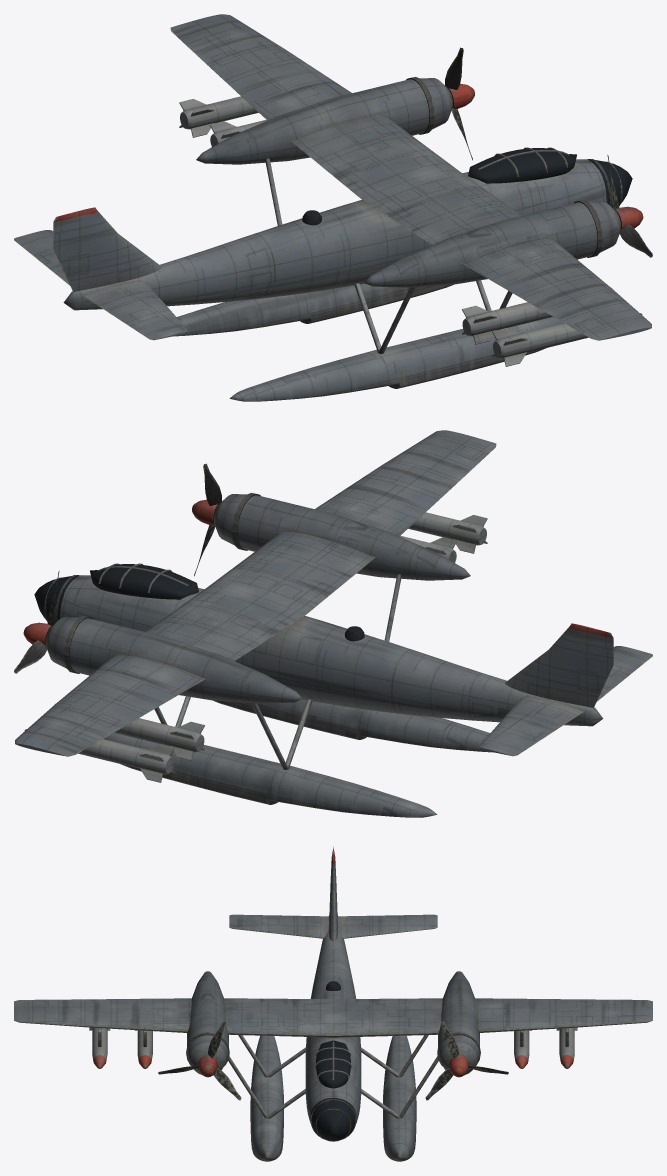
The model's file is fh_battle_e_seaplane.glb.
3 views of the same model, one above another, from view 1: azimuth 30°, elevation 25°; view 2: azimuth 150°, elevation 25°; view 3: azimuth 270°, elevation 25° (orthographic). The views are drawn at different scales.
Parts seen in each view (by area): view 1: body, prop_2, prop_1; view 2: body, prop_1, prop_2; view 3: body, prop_1, prop_2.
Boxes of the visible parts, bbox=[...] form: body: bbox=[14, 14, 651, 401]; prop_2: bbox=[445, 47, 474, 160]; prop_1: bbox=[607, 154, 652, 257]; body: bbox=[15, 430, 652, 817]; prop_1: bbox=[192, 463, 221, 576]; prop_2: bbox=[14, 570, 59, 673]; body: bbox=[14, 846, 652, 1161]; prop_1: bbox=[158, 1021, 241, 1100]; prop_2: bbox=[425, 1021, 508, 1100].
Bounding box in the file's own units: 1 × 0.3424 × 1.28.
Materials: 2 (2 with a texture image).
